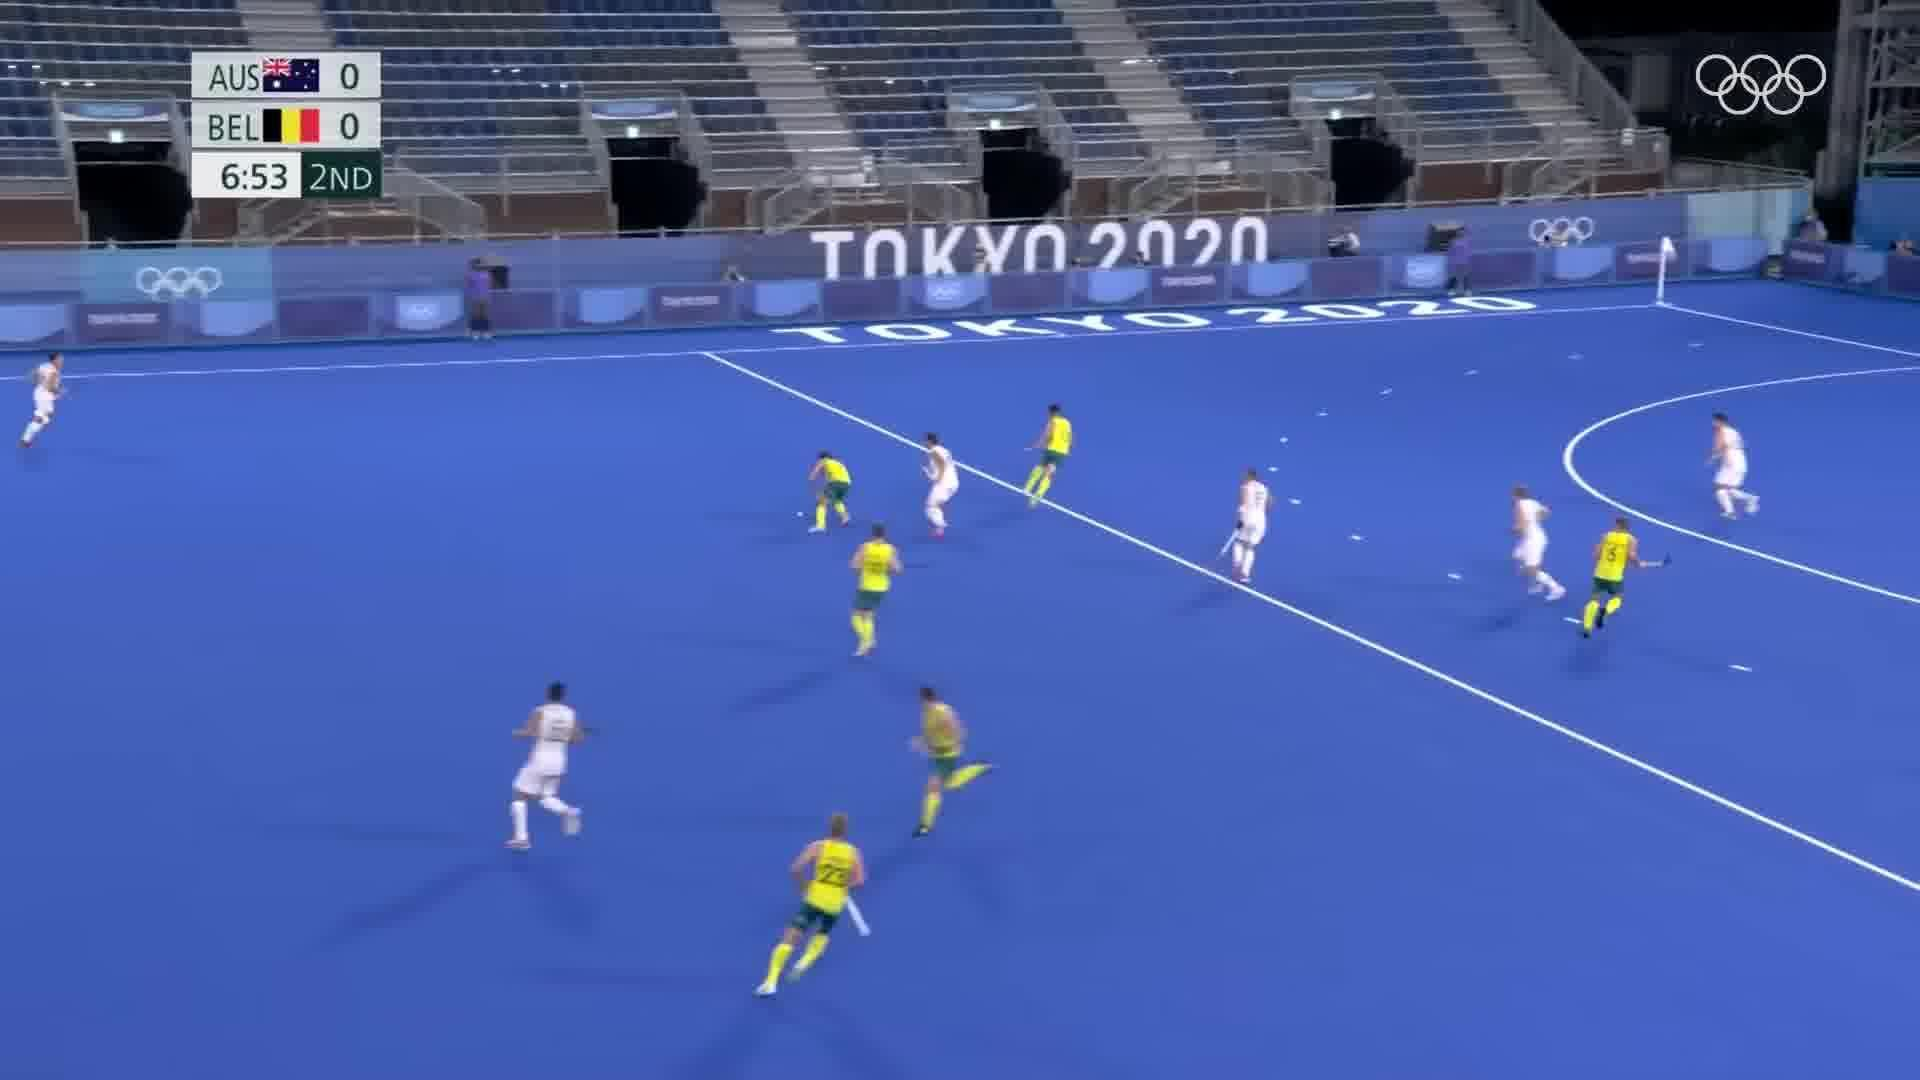ball: (794, 509, 805, 520)
